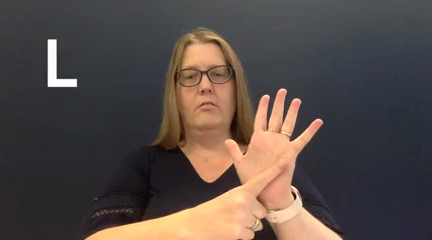L: (200, 86, 329, 240)
